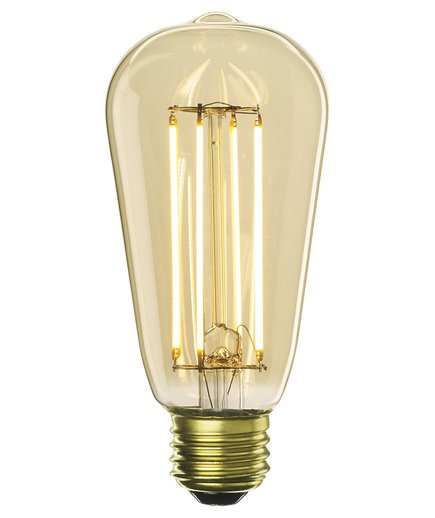Nonrec_Glass: (96, 14, 334, 487)
